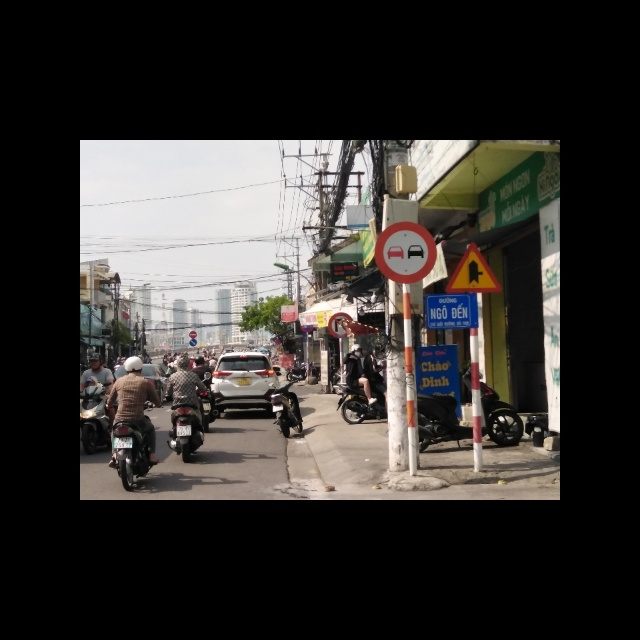Cấm vượt: (374, 221, 435, 283)
Giao nhau với đường không ưu tiên: (446, 241, 503, 294)
